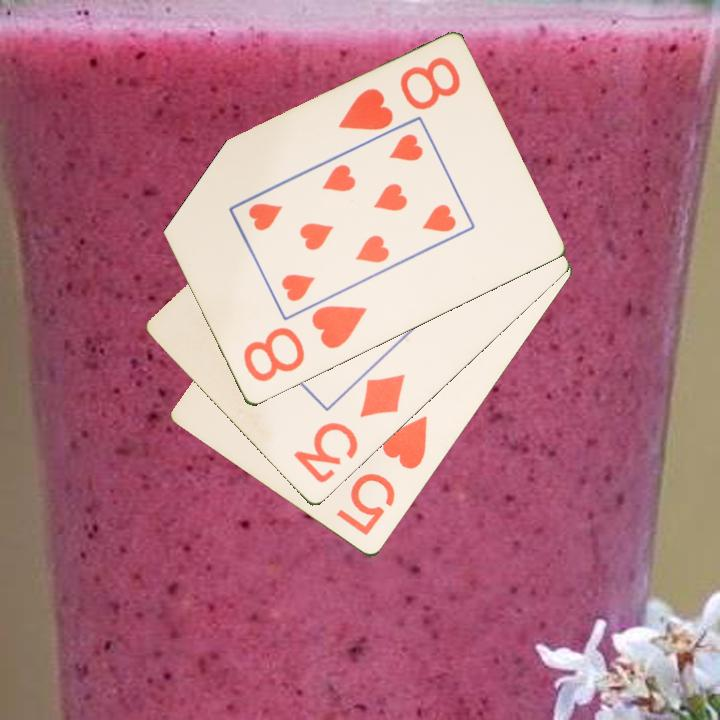3d: (290, 370, 409, 487)
5h: (332, 412, 431, 540)
8h: (239, 302, 370, 386), (334, 53, 463, 135)
